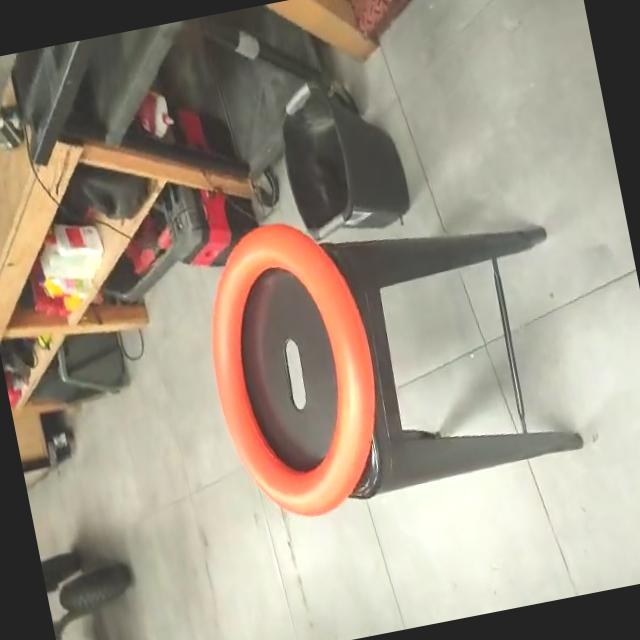note: (187, 209, 405, 532)
